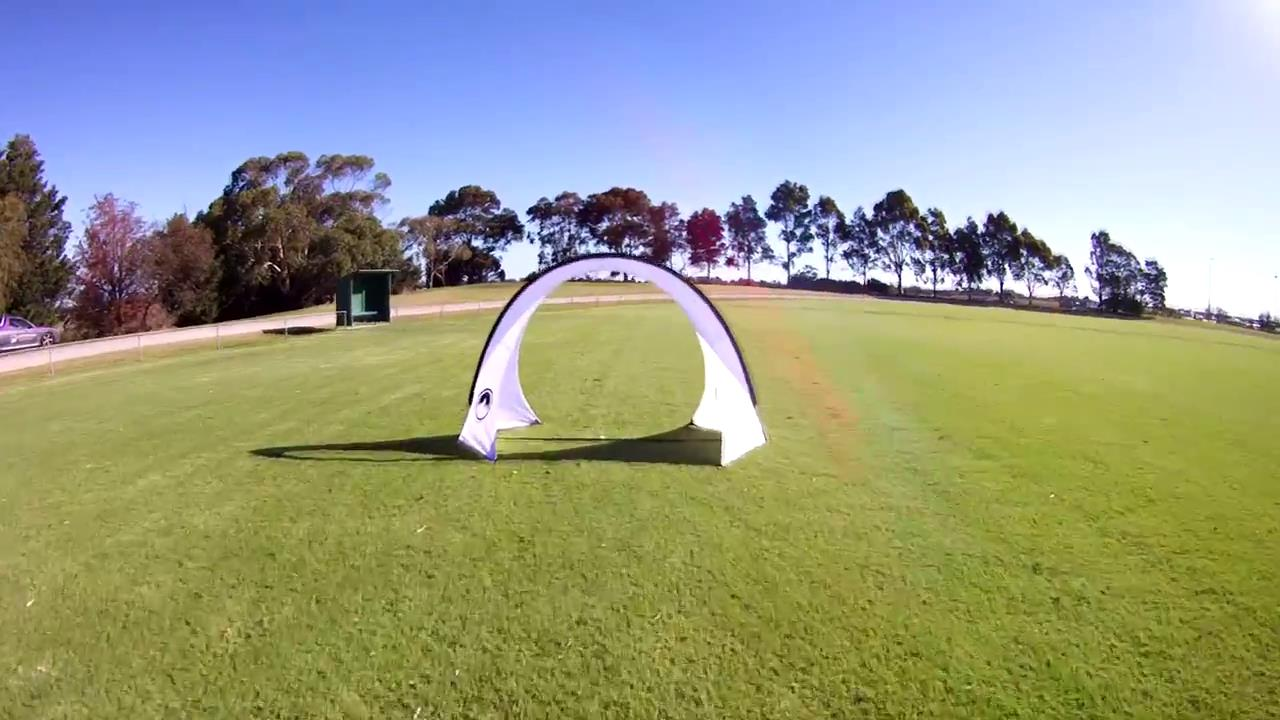gate: (453, 249, 769, 468)
